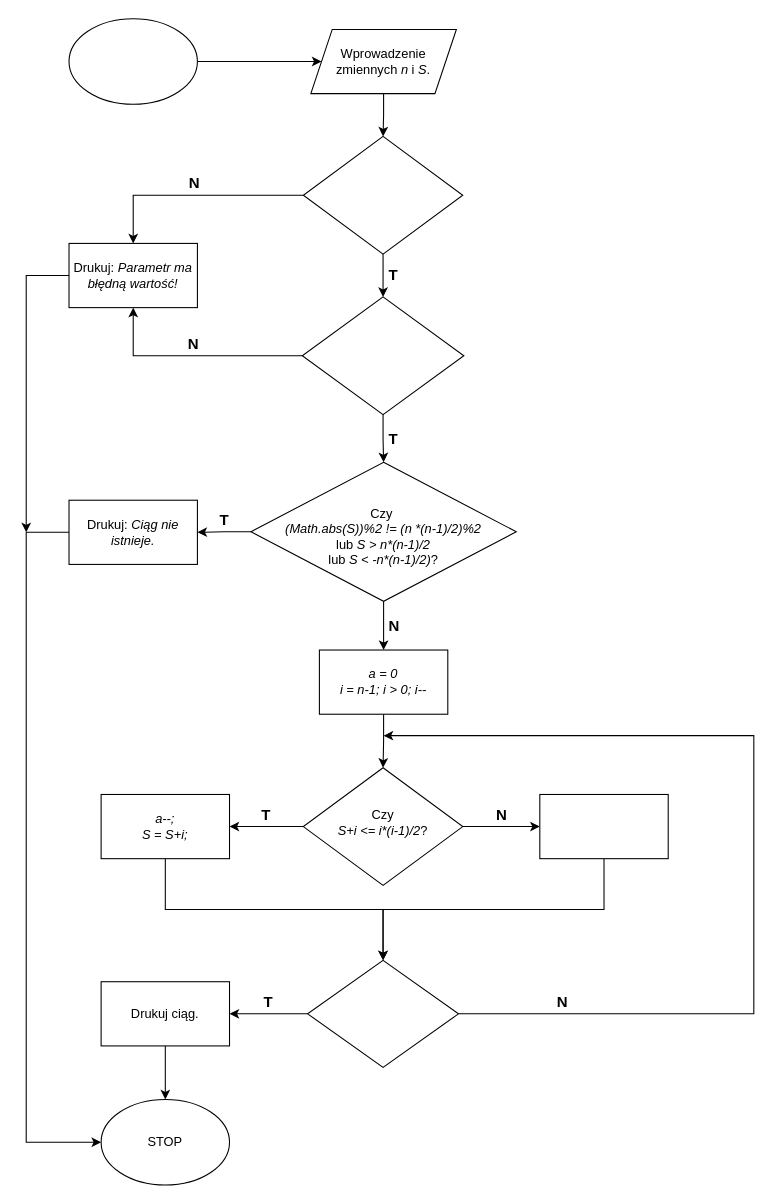
This 781x1204 diagram has some shape labels left out. The centre of each missing label's shape, as x and y in pixels:
a++; S = S-i;: the point at 603,826
Czy ciąg ma n elementów?: the point at 382,1013
Czy n jest liczbą z przedziału [1; 10000]?: the point at 382,194
Czy S jest liczbą z przedziału [-50000000; 50000000]?: the point at 382,355
START: the point at 132,61
